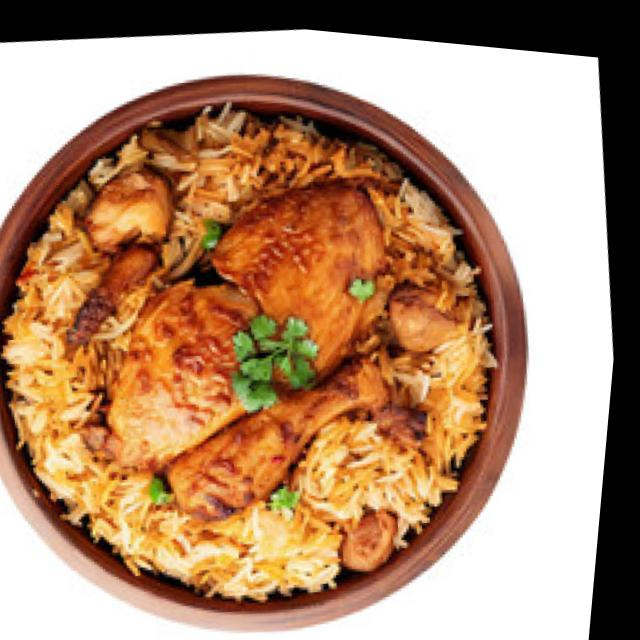BIRIYANI: (0, 104, 495, 596)
